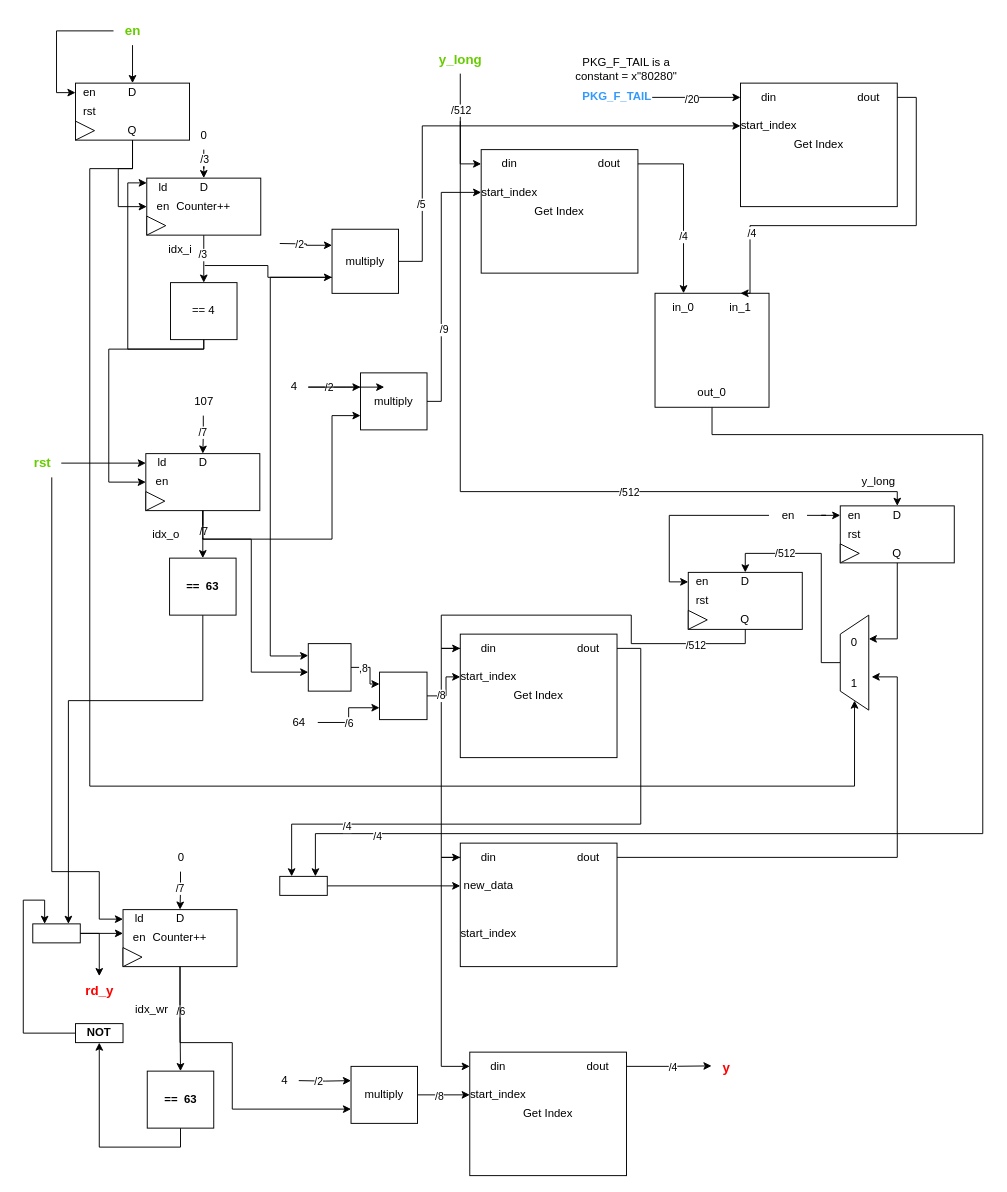
This 1007x1192 diagram has some shape labels left out. The box of each missing label's shape, as (x1, y1, x2, y2) in pixels:
Add: (307, 643, 351, 691)
AND: (32, 923, 80, 943)
Counter--: (145, 453, 260, 511)
mul_f: (654, 292, 769, 407)
Replace at Index: (459, 842, 617, 967)
Subtact: (379, 671, 427, 720)
XOR: (279, 875, 327, 895)
